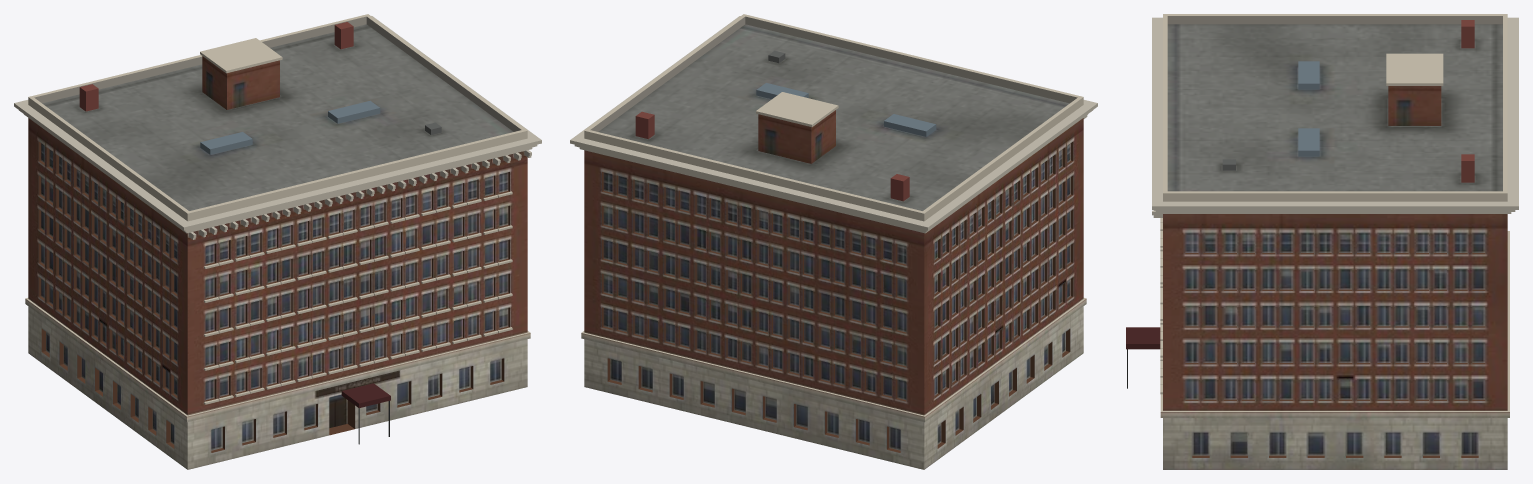
Rendered from seattle_belltown_c.glb.
The picture shows the model from 3 angles, left to right: view 1: azimuth 30°, elevation 25°; view 2: azimuth 150°, elevation 25°; view 3: azimuth 270°, elevation 25°; orthographic projection. The views are drawn at different scales.
Visible parts, largest first — view 1: seattle_belltown_c; view 2: seattle_belltown_c; view 3: seattle_belltown_c.
Boxes of the visible parts, box(x1,y1,x2,y2) form: seattle_belltown_c: box(14, 14, 541, 469); seattle_belltown_c: box(570, 14, 1097, 469); seattle_belltown_c: box(1126, 14, 1518, 469).
Bounding box in the file's own units: 33.7 × 25.97 × 29.65.
Materials: 1 (1 with a texture image).
